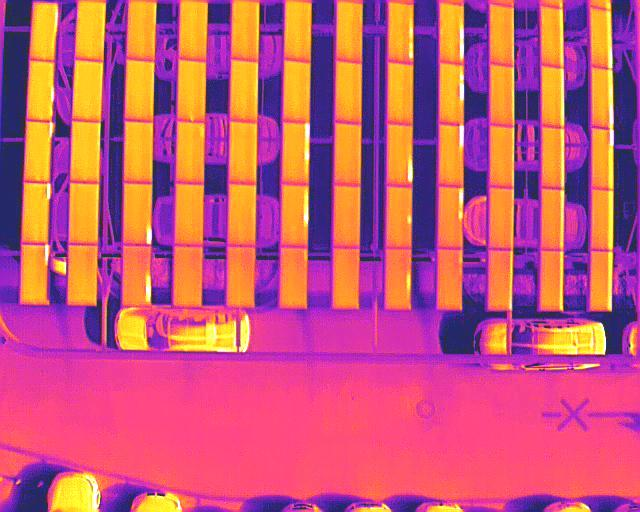Cell: (387, 186, 412, 249)
No-Anomaly: (76, 0, 106, 62), (71, 121, 101, 183), (73, 61, 103, 122), (68, 245, 98, 306), (69, 182, 98, 245), (126, 60, 155, 122), (174, 247, 203, 309), (127, 0, 156, 60), (229, 184, 257, 246), (228, 246, 256, 308), (333, 248, 361, 310), (180, 0, 208, 61), (232, 0, 260, 61), (178, 61, 206, 122), (125, 122, 153, 183), (284, 60, 311, 123), (177, 184, 204, 247), (230, 121, 257, 184), (281, 247, 308, 310), (285, 0, 312, 62), (177, 122, 204, 184), (334, 186, 361, 248), (232, 60, 259, 121), (336, 0, 362, 62), (336, 62, 362, 124), (335, 124, 361, 185), (389, 62, 414, 125), (437, 249, 462, 311), (541, 4, 565, 68), (539, 250, 564, 311), (490, 3, 514, 66), (490, 64, 514, 127), (491, 124, 514, 189), (489, 249, 513, 311), (591, 190, 615, 252), (540, 189, 564, 251), (542, 66, 565, 128), (542, 127, 565, 189), (491, 187, 514, 249), (590, 252, 613, 312)
Unclassified: (124, 183, 153, 245), (24, 121, 53, 182), (23, 181, 51, 244), (21, 244, 49, 306), (124, 245, 152, 307), (30, 0, 58, 61), (283, 122, 310, 185), (28, 60, 55, 122), (282, 185, 309, 247), (388, 125, 415, 187), (385, 249, 412, 310), (437, 188, 464, 249), (439, 2, 465, 65), (439, 62, 465, 125), (439, 126, 465, 188), (390, 1, 415, 65), (590, 67, 615, 131), (590, 5, 613, 70), (592, 129, 615, 191)
